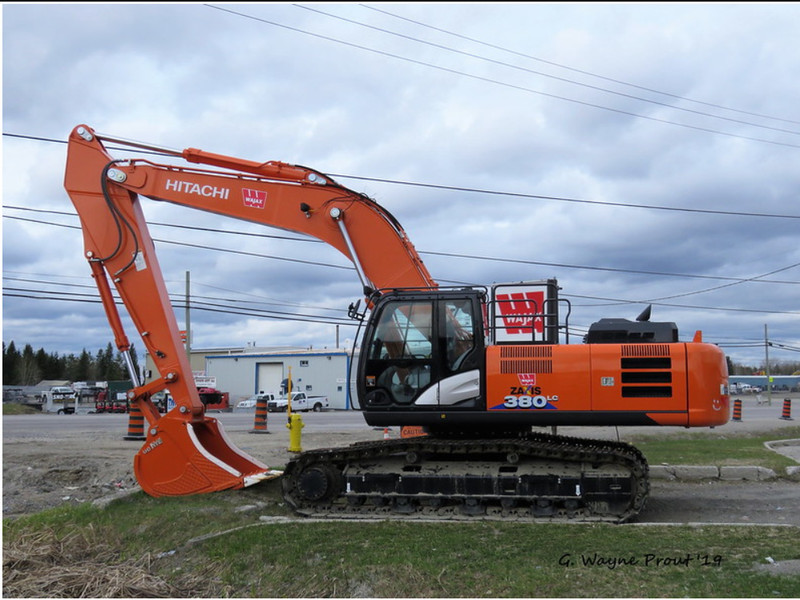shovel: (54, 119, 738, 527)
